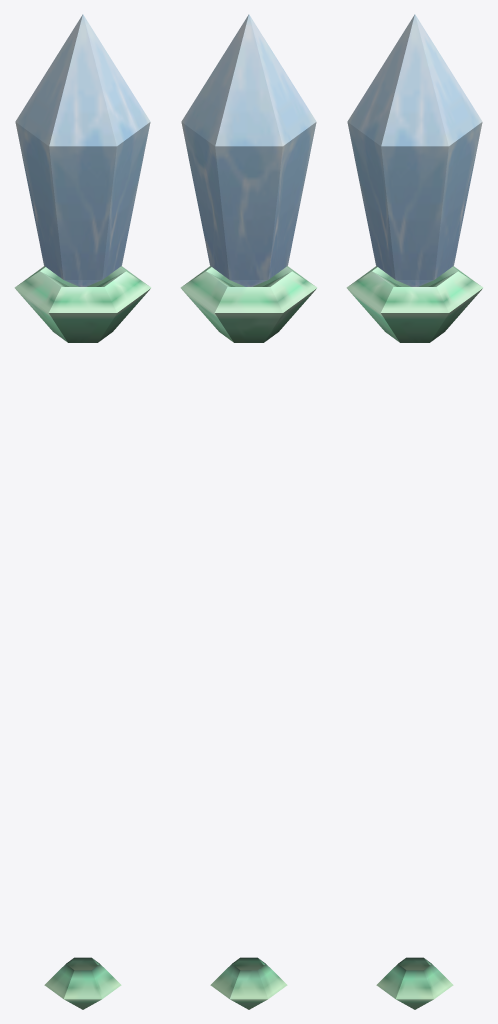
File: Penguin_iceStaff.obj
The picture shows the model from 3 angles, left to right: view 1: azimuth 30°, elevation 25°; view 2: azimuth 150°, elevation 25°; view 3: azimuth 330°, elevation 25°; orthographic projection.
Parts seen in each view (by area): view 1: Penguin_iceStaff_tri; view 2: Penguin_iceStaff_tri; view 3: Penguin_iceStaff_tri.
Boxes of the visible parts, <box> form: Penguin_iceStaff_tri: <box>14,14,151,1009</box>; Penguin_iceStaff_tri: <box>180,14,317,1009</box>; Penguin_iceStaff_tri: <box>346,14,483,1009</box>.
Size of the model in its own units: 0.0972 by 0.8987 by 0.1122.
1 material, 1 textured.
